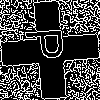P: (25, 25, 74, 63)
